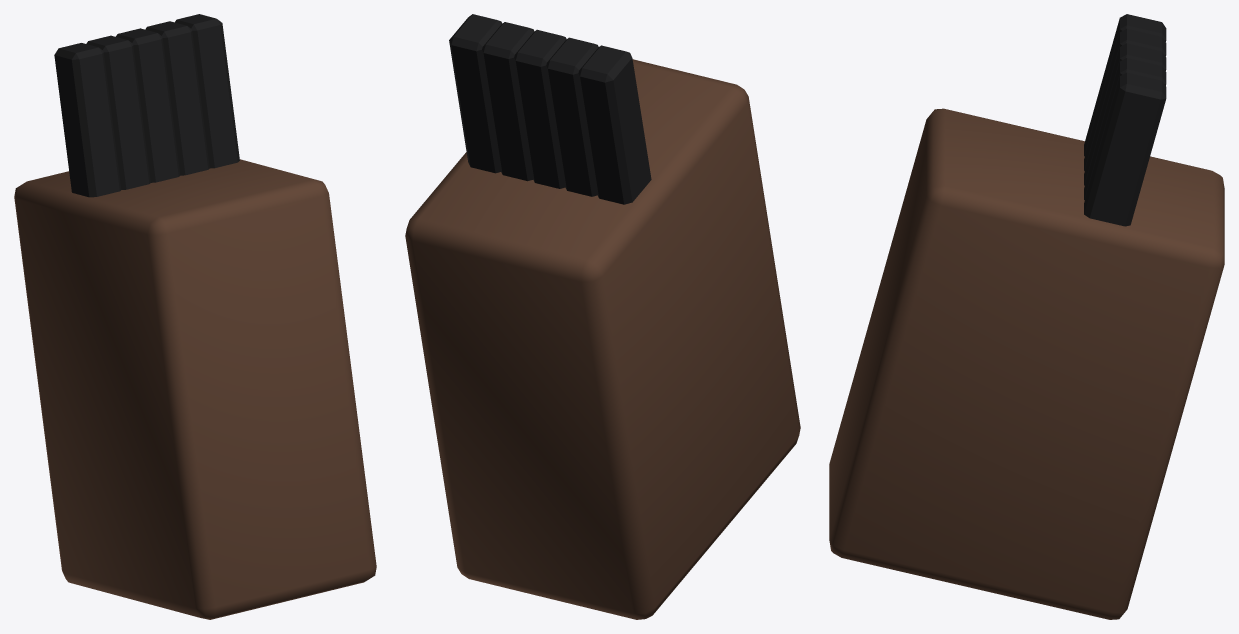
The model's file is i_kit_1.glb.
The picture shows the model from 3 angles, left to right: view 1: azimuth 30°, elevation 25°; view 2: azimuth 150°, elevation 25°; view 3: azimuth 270°, elevation 25°; orthographic projection. The views are drawn at different scales.
Parts seen in each view (by area): view 1: o, o.001, o.005, o.004, o.003, o.002; view 2: o, o.001, o.005, o.003, o.002, o.004; view 3: o, o.005, o.004, o.003, o.001, o.002.
Boxes of the visible parts, box(x1,y1,x2,y2) form: o: box(14, 159, 376, 619); o.001: box(54, 43, 121, 197); o.005: box(175, 14, 239, 168); o.004: box(145, 21, 209, 175); o.003: box(116, 28, 180, 182); o.002: box(86, 35, 150, 189); o: box(405, 59, 800, 619); o.001: box(578, 45, 651, 204); o.005: box(449, 14, 502, 173); o.003: box(514, 29, 566, 188); o.002: box(546, 37, 598, 196); o.004: box(482, 22, 534, 181); o: box(829, 108, 1224, 619); o.005: box(1084, 72, 1166, 226); o.004: box(1084, 58, 1166, 200); o.003: box(1084, 43, 1166, 185); o.001: box(1084, 14, 1166, 156); o.002: box(1084, 28, 1166, 170).
Bounding box in the file's own units: 0.11 × 0.3053 × 0.2055.
